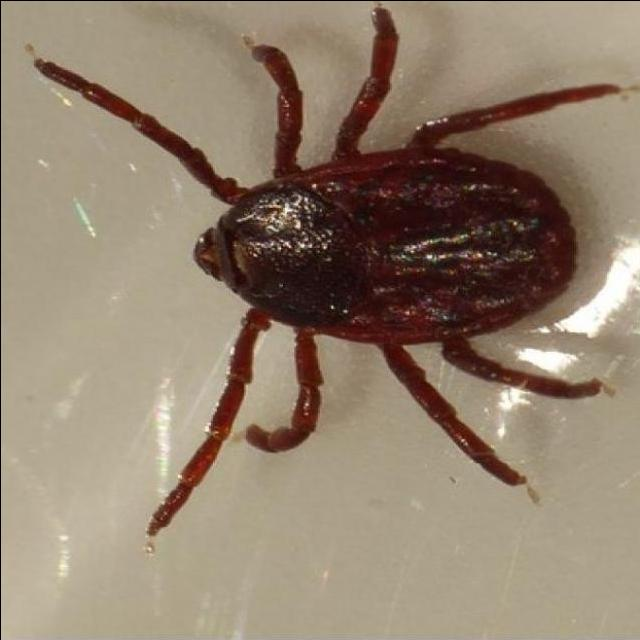Rhipicephalus Sanguineus-F: (35, 8, 628, 539)
